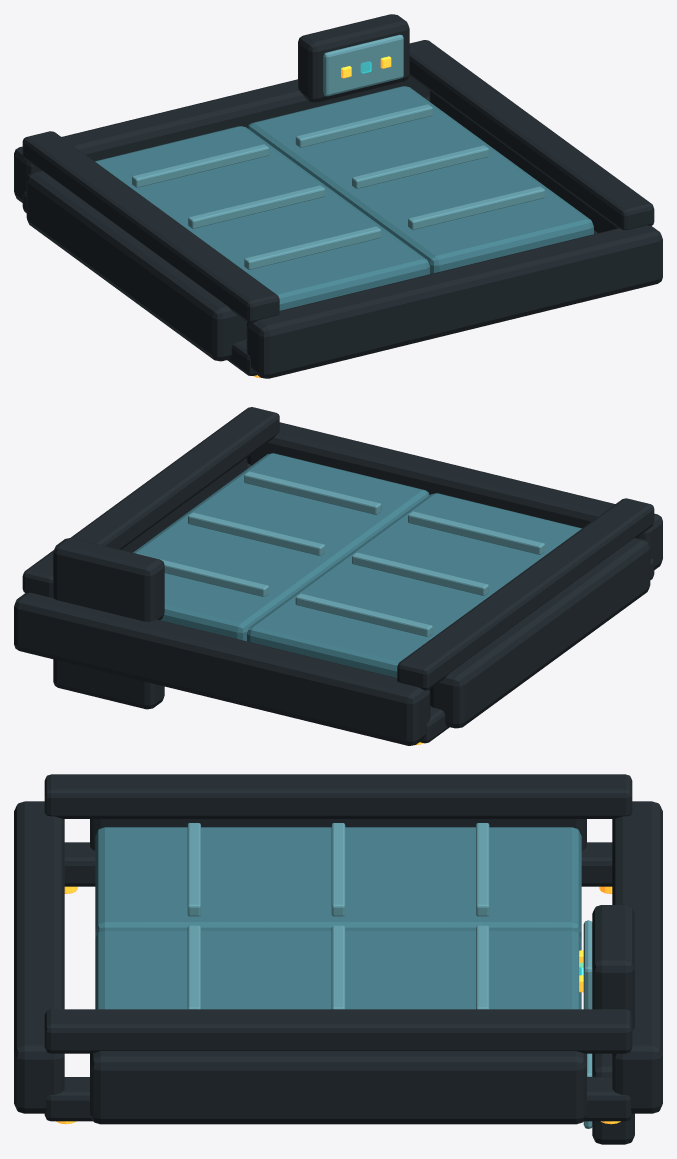
The model's file is 05_square_sliding_bipartite.glb.
3 views of the same model, one above another, from view 1: azimuth 30°, elevation 25°; view 2: azimuth 150°, elevation 25°; view 3: azimuth 270°, elevation 25° (orthographic). The views are drawn at different scales.
Parts seen in each view (by area): view 1: Square_Half_2, Frame_North.002, Square_Half_1, Frame_West.002, Sliding_Track_Left_Top, Sliding_Track_Right_Top, Frame_South.002, Control_Top_Housing, Control_Top_Face, Frame_East.002, Square_Half_2_Top_Rib_2, Square_Half_1_Top_Rib_0 (+5 smaller); view 2: Frame_South.002, Square_Half_1, Square_Half_2, Frame_West.002, Frame_North.002, Sliding_Track_Left_Top, Sliding_Track_Right_Top, Control_Top_Housing, Control_Bottom_Housing, Square_Half_2_Top_Rib_0, Square_Half_1_Top_Rib_2, Square_Half_2_Top_Rib_1 (+5 smaller); view 3: Square_Half_1, Frame_East.002, Square_Half_2, Sliding_Track_Left_Top, Sliding_Track_Right_Top, Frame_North.002, Frame_South.002, Frame_West.002, Control_Top_Housing, Sliding_Track_Right, Sliding_Track_Left, Control_Bottom_Housing (+7 smaller).
Part boxes in pixels (x1,y1,x2,y2): Square_Half_2: (247,86,593,273); Frame_North.002: (246,225,662,378); Square_Half_1: (95,126,429,310); Frame_West.002: (26,171,247,361); Sliding_Track_Left_Top: (22,131,279,323); Sliding_Track_Right_Top: (409,40,654,230); Frame_South.002: (14,75,429,202); Control_Top_Housing: (298,14,409,102); Control_Top_Face: (323,34,403,96); Frame_East.002: (429,90,617,232); Square_Half_2_Top_Rib_2: (295,104,432,147); Square_Half_1_Top_Rib_0: (244,226,381,269); Frame_South.002: (14,592,430,745); Square_Half_1: (247,493,581,677); Square_Half_2: (133,453,429,641); Frame_West.002: (429,538,650,728); Frame_North.002: (247,422,662,569); Sliding_Track_Left_Top: (397,498,654,690); Sliding_Track_Right_Top: (22,407,279,597); Control_Top_Housing: (53,538,164,621); Control_Bottom_Housing: (53,659,164,709); Square_Half_2_Top_Rib_0: (244,471,381,514); Square_Half_1_Top_Rib_2: (295,593,432,636); Square_Half_2_Top_Rib_1: (188,512,324,555); Square_Half_1: (95,827,581,938); Frame_East.002: (90,1051,586,1124); Square_Half_2: (95,930,581,1009); Sliding_Track_Left_Top: (44,774,632,818); Sliding_Track_Right_Top: (44,1009,632,1053); Frame_North.002: (14,801,64,1113); Frame_South.002: (612,801,662,1113); Frame_West.002: (90,819,586,850); Control_Top_Housing: (592,905,634,1030); Sliding_Track_Right: (44,1077,632,1121); Sliding_Track_Left: (64,842,612,886); Control_Bottom_Housing: (592,1053,634,1144).
Bounding box in the file's own units: 1.22 × 0.38 × 1.22.
